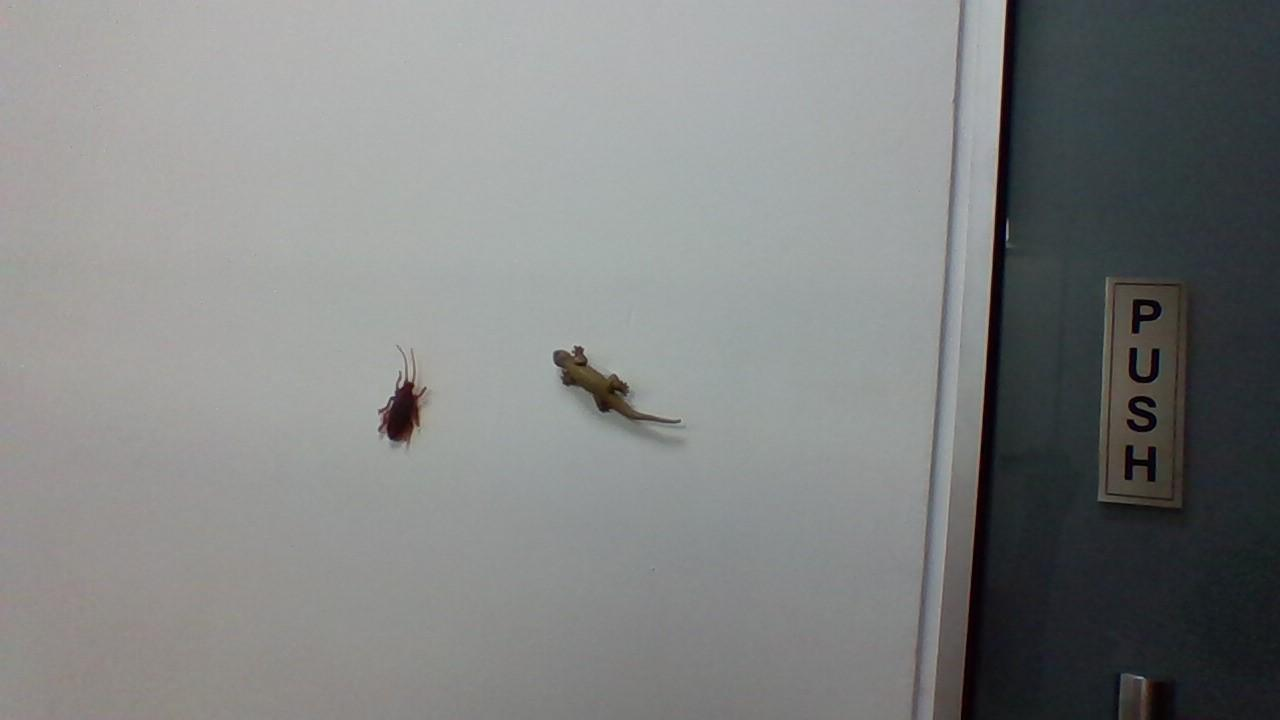cockroach: (375, 337, 433, 460)
lizard: (537, 340, 691, 438)
